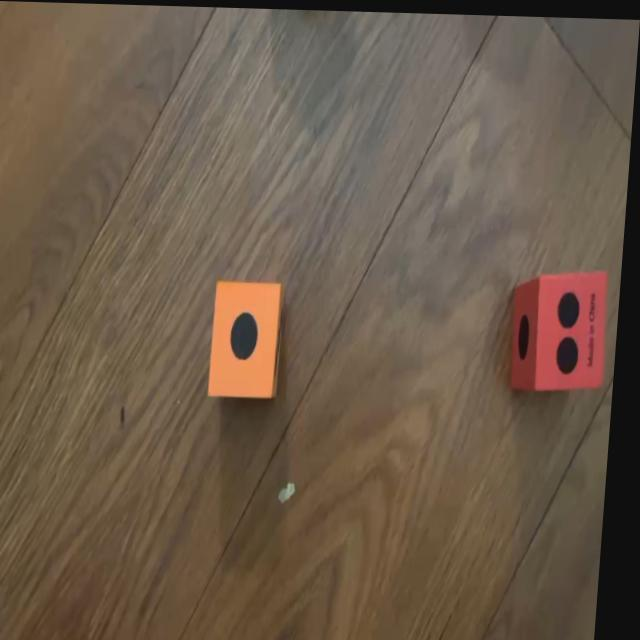cube: (512, 266, 613, 387)
